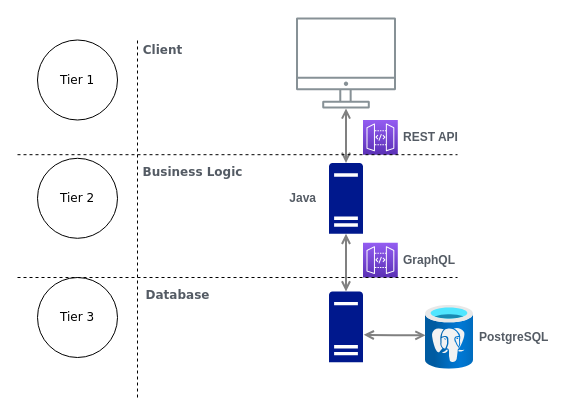
This 566x416 diagram has some shape labels left out. Each missing label, with the centre of its shape:
Blazor: the point at 346,62
C# EF Core: the point at 345,326
